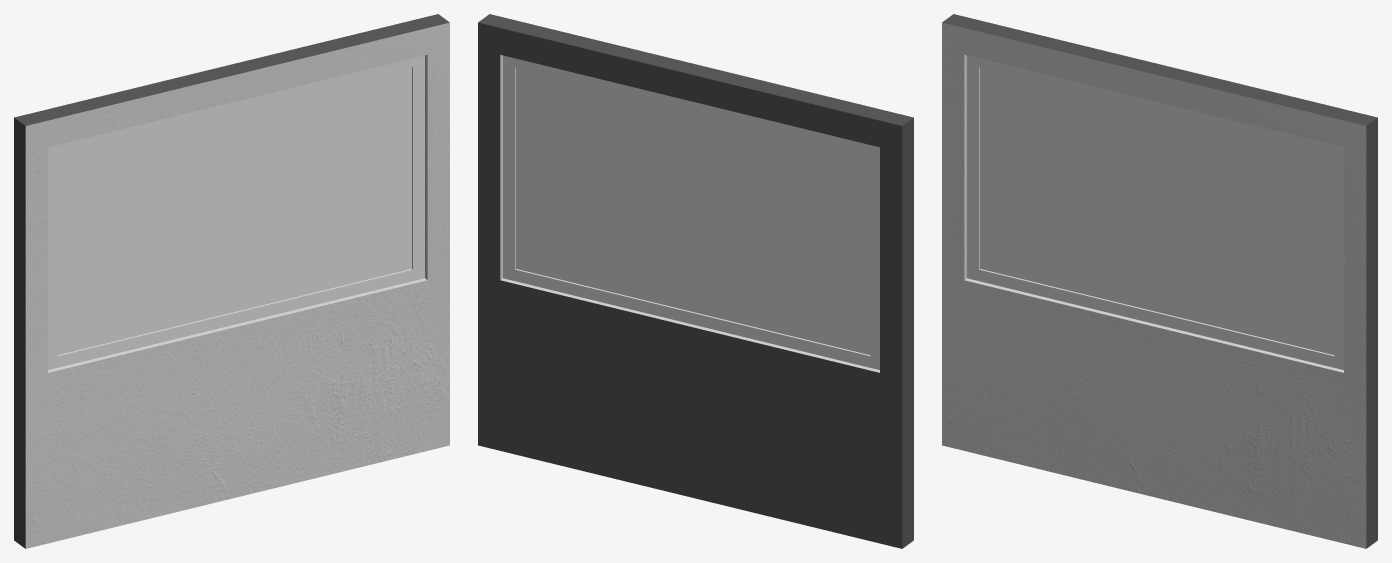
Rendered from Wall_with_window.fbx.
The picture shows the model from 3 angles, left to right: view 1: azimuth 30°, elevation 25°; view 2: azimuth 150°, elevation 25°; view 3: azimuth 330°, elevation 25°; orthographic projection.
Visible parts, largest first — view 1: Wall_9, Window_2.001; view 2: Wall_9, Window_2.001; view 3: Wall_9, Window_2.001.
Part boxes in pixels (x1,y1,x2,y2): Wall_9: (14,14,449,548); Window_2.001: (48,55,424,369); Wall_9: (478,14,913,548); Window_2.001: (503,55,879,369); Wall_9: (942,14,1377,548); Window_2.001: (967,55,1343,369).
Size of the model in its own units: 210 by 200 by 10.
